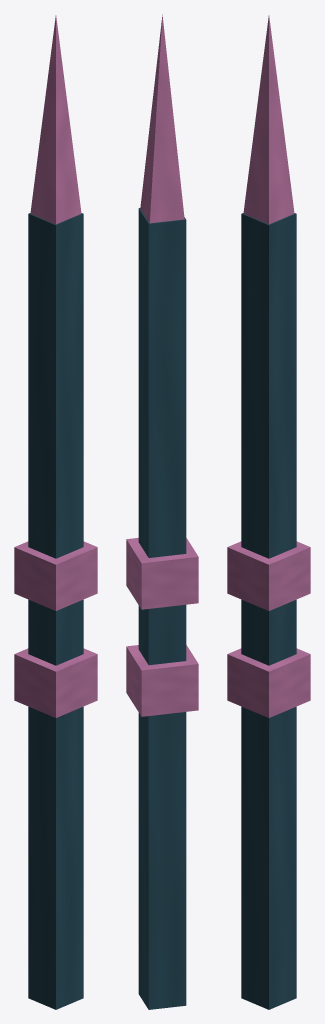
The model's file is atlas100-s061-a05.lod2.glb.
The picture shows the model from 3 angles, left to right: view 1: azimuth 90°, elevation 25°; view 2: azimuth 150°, elevation 25°; view 3: azimuth 270°, elevation 25°; orthographic projection.
Parts seen in each view (by area): view 1: atlas100-s061-a05:part-000, atlas100-s061-a05:part-004, atlas100-s061-a05:part-002, atlas100-s061-a05:part-003; view 2: atlas100-s061-a05:part-000, atlas100-s061-a05:part-004, atlas100-s061-a05:part-002, atlas100-s061-a05:part-003; view 3: atlas100-s061-a05:part-000, atlas100-s061-a05:part-004, atlas100-s061-a05:part-002, atlas100-s061-a05:part-003.
Boxes of the visible parts, <box> form: atlas100-s061-a05:part-000: <box>28,213,83,1009</box>; atlas100-s061-a05:part-004: <box>30,15,81,224</box>; atlas100-s061-a05:part-002: <box>14,648,97,717</box>; atlas100-s061-a05:part-003: <box>14,541,97,610</box>; atlas100-s061-a05:part-000: <box>138,208,186,1009</box>; atlas100-s061-a05:part-004: <box>140,14,184,223</box>; atlas100-s061-a05:part-002: <box>126,645,198,716</box>; atlas100-s061-a05:part-003: <box>126,538,198,609</box>; atlas100-s061-a05:part-000: <box>241,213,296,1009</box>; atlas100-s061-a05:part-004: <box>243,15,294,224</box>; atlas100-s061-a05:part-002: <box>227,648,310,717</box>; atlas100-s061-a05:part-003: <box>227,541,310,610</box>.
Size of the model in its own units: 0.1158 by 1.51 by 0.1158.
2 materials, 2 textured.
